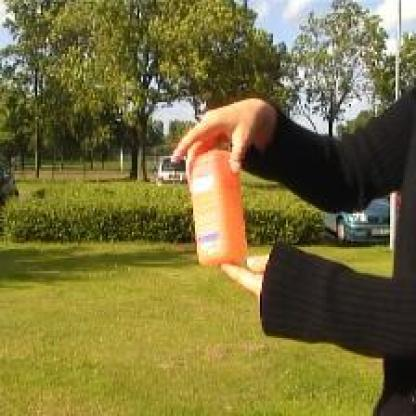other: (173, 134, 260, 265)
